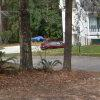Tree: (6, 2, 56, 37)
